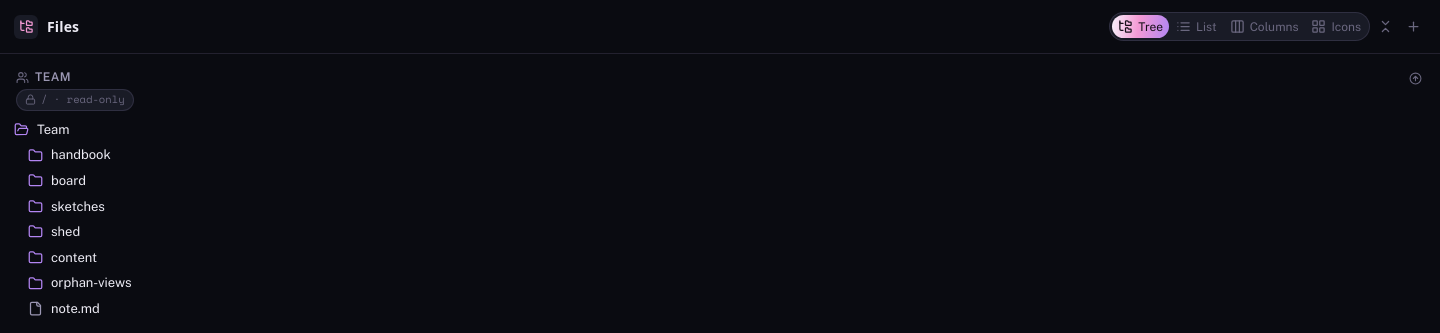
Scenario: R3-267 — a folder's opensWith marker finally has a caller › a user closing the viewer (cancelled) leaves the affordance in place
The image size is (1440, 333).
Right-click the text "handbook".
right_click(81, 155)  # box [51, 147, 111, 162]
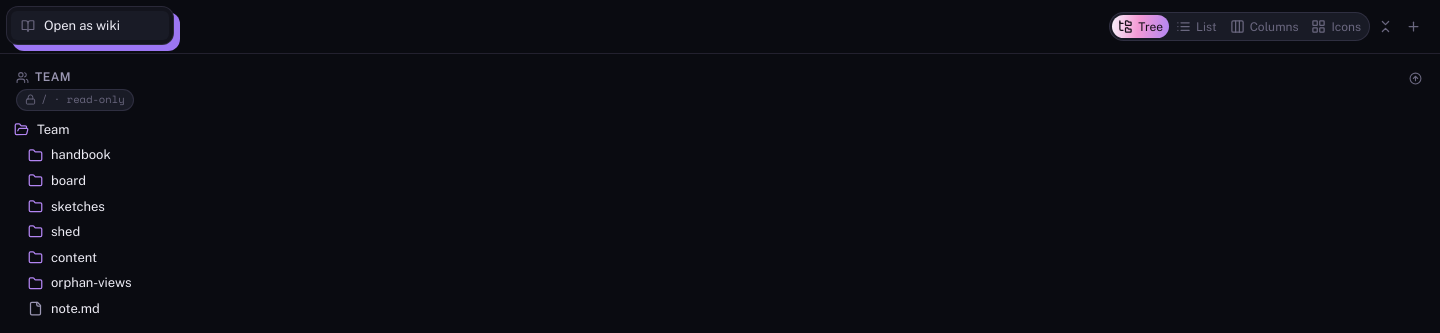
Click the menu item "Open as wiki".
click(90, 26)  # box [11, 11, 169, 40]
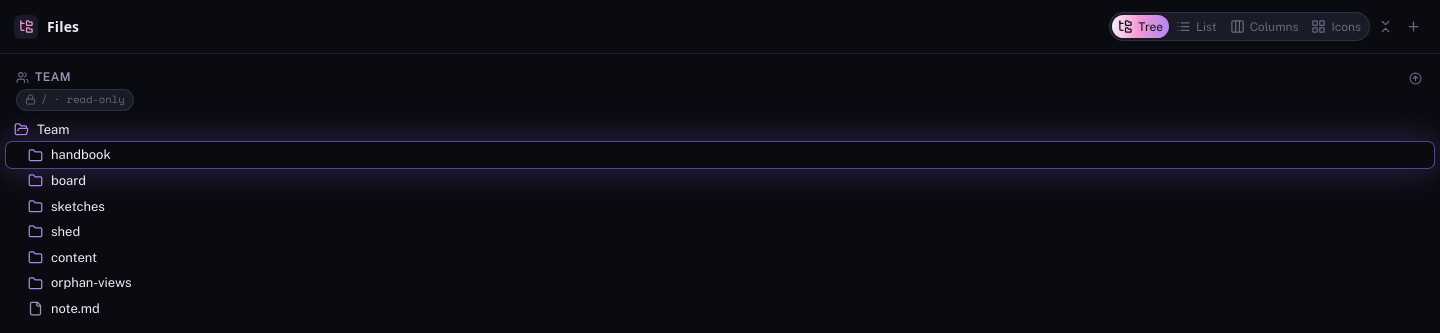
Right-click the text "handbook".
right_click(81, 155)  # box [51, 147, 111, 162]
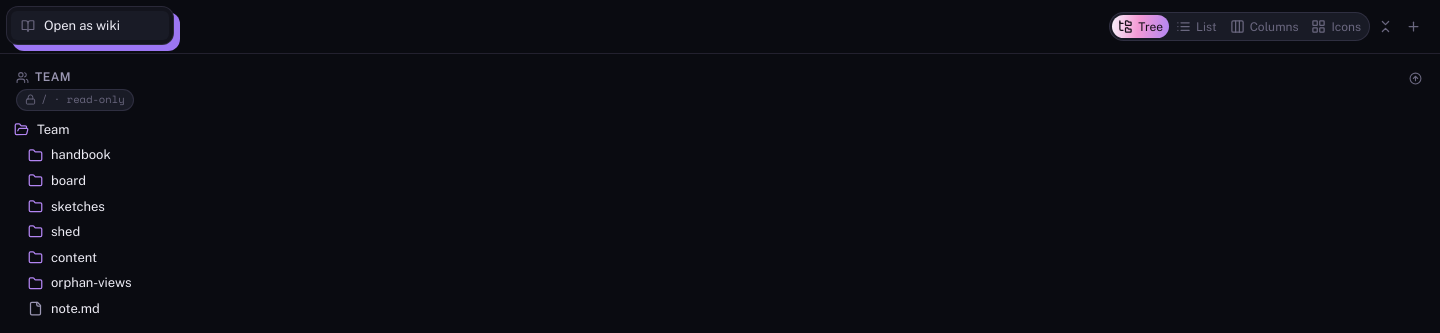
Expected: the menu item "Open as wiki" is shown, [11, 11, 169, 40]
